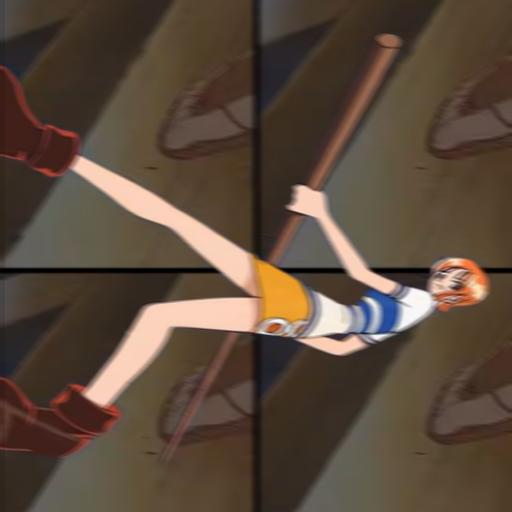Nami: (0, 30, 489, 482)
